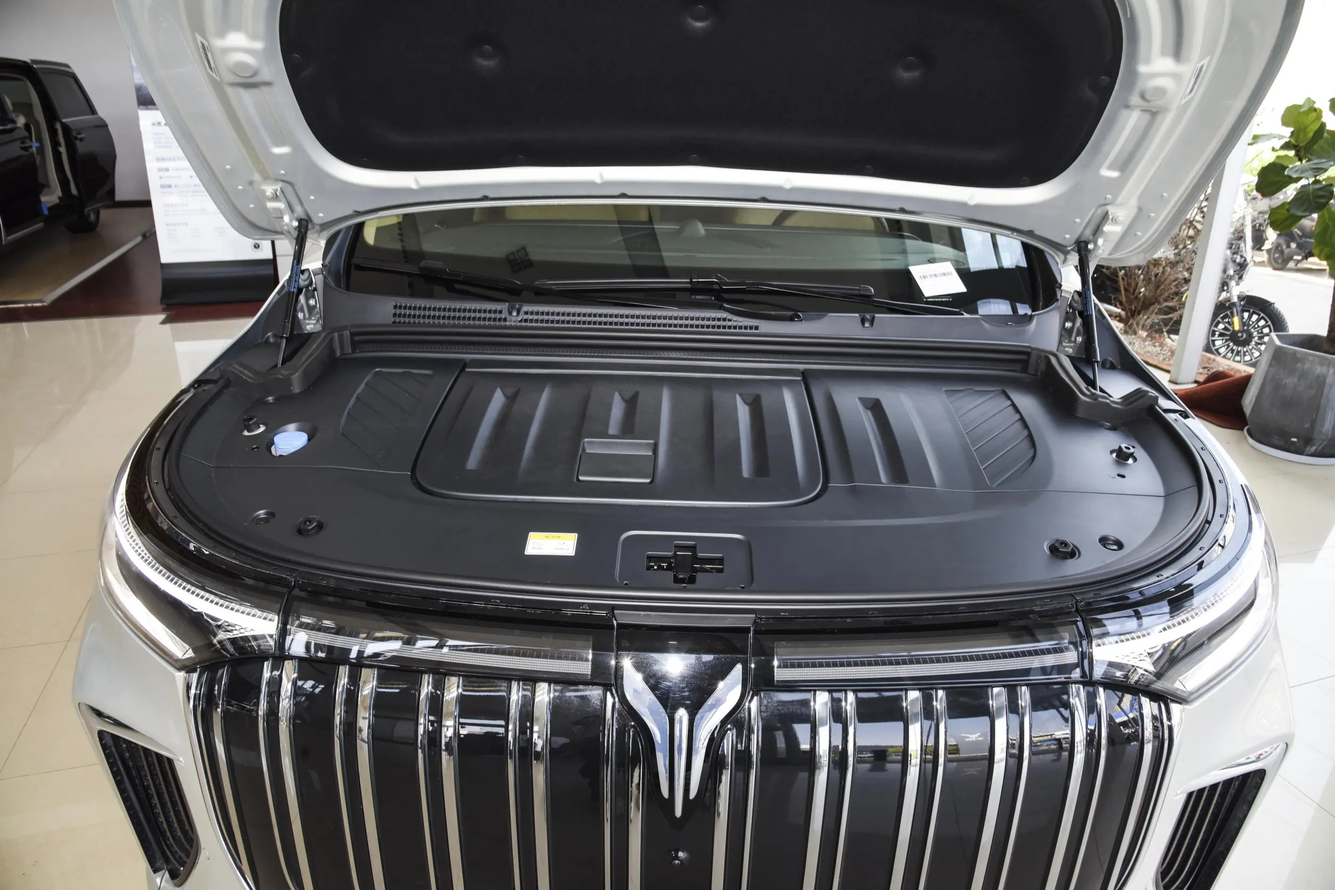VOYAH: (623, 661, 741, 818)
